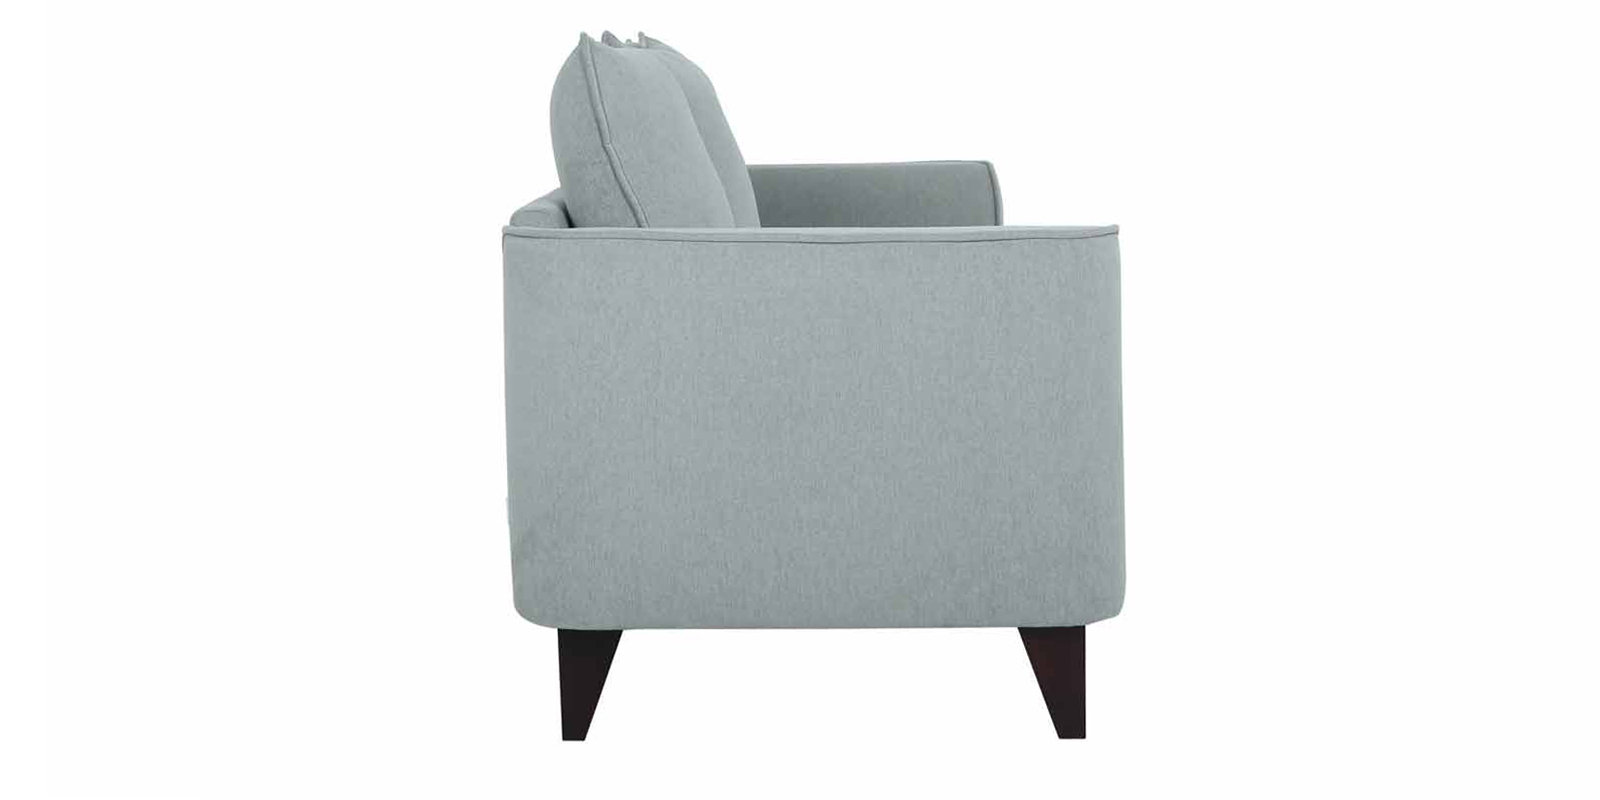Lara Three Seater Sofa in Ash Grey Colour by CasaCraft: (502, 24, 1128, 742)
